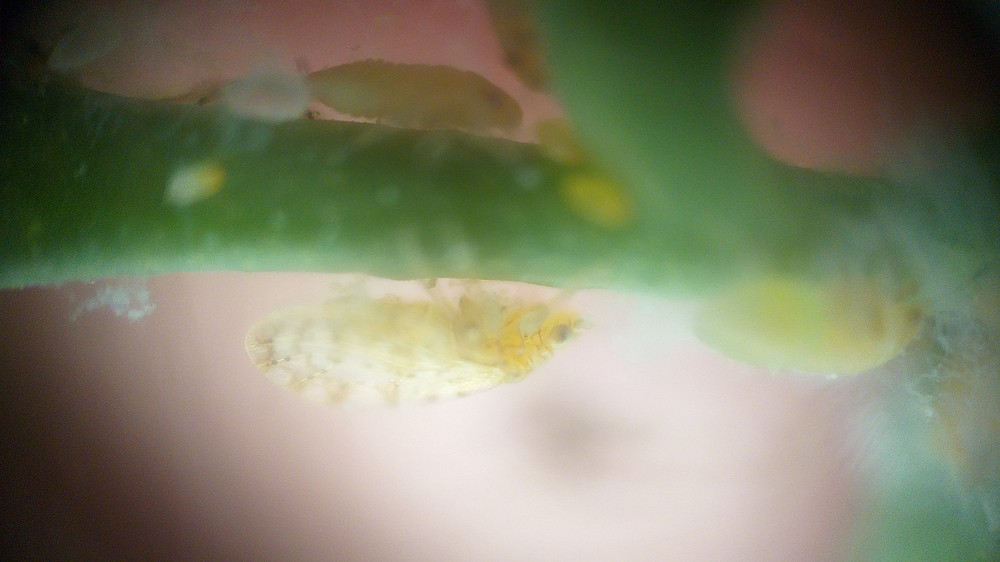Mosca Blanca: (227, 234, 626, 434)
